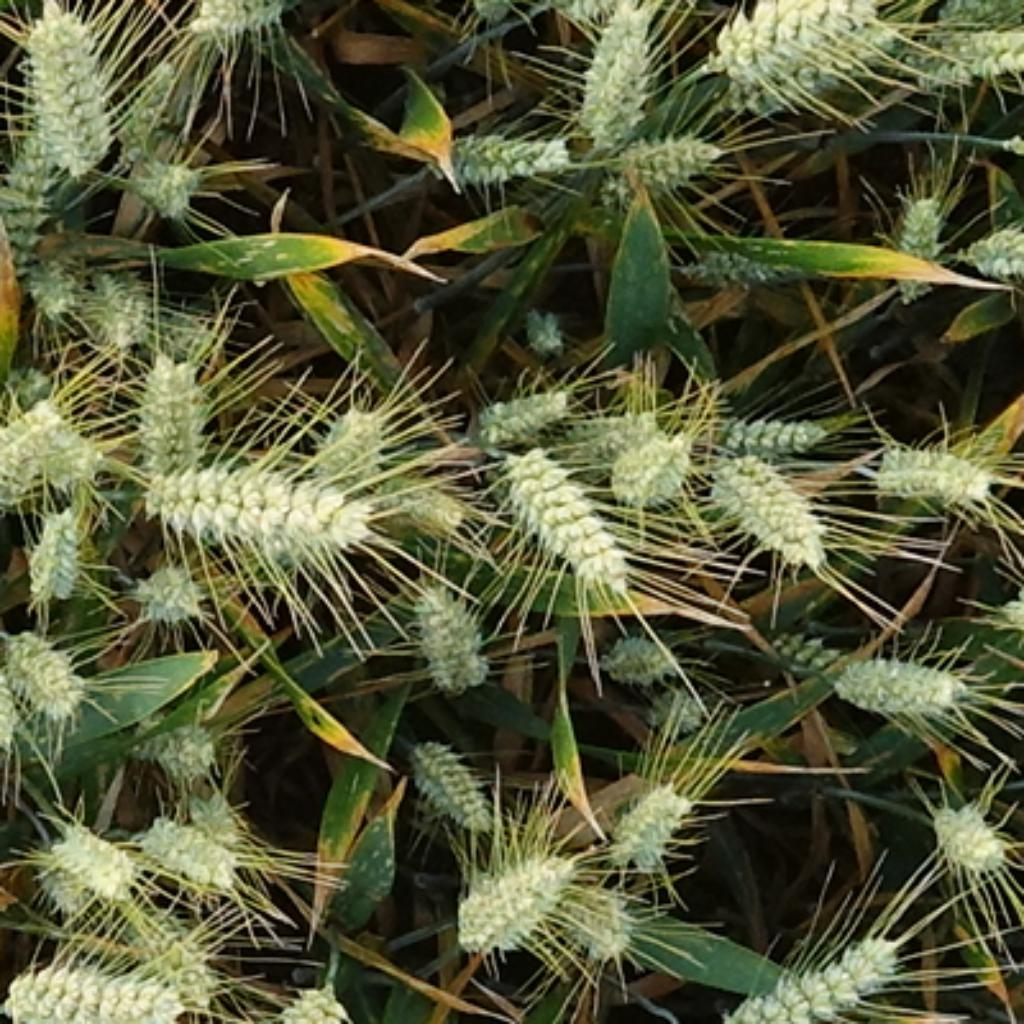0-0: (140, 458, 378, 558), (491, 437, 632, 586), (5, 2, 120, 179), (711, 929, 916, 1024), (709, 25, 903, 117), (450, 826, 578, 952), (706, 440, 832, 558), (711, 2, 901, 76), (0, 952, 192, 1024), (570, 2, 663, 135), (821, 634, 972, 714), (865, 419, 1003, 504), (399, 570, 494, 686), (432, 110, 576, 186), (30, 806, 143, 901), (125, 353, 212, 476), (0, 128, 62, 296), (396, 724, 494, 826), (107, 53, 184, 176), (555, 396, 670, 478), (0, 394, 74, 519), (601, 765, 696, 860), (130, 916, 230, 1006), (0, 616, 87, 714), (883, 179, 949, 307), (901, 28, 1024, 94), (552, 865, 640, 957), (606, 120, 719, 189), (125, 704, 225, 780), (683, 235, 806, 296), (614, 430, 711, 506), (304, 391, 391, 473), (23, 496, 94, 596), (924, 788, 1008, 870), (140, 143, 227, 222), (463, 373, 570, 437), (366, 460, 465, 529), (207, 980, 355, 1024), (711, 401, 832, 453), (79, 269, 153, 353), (38, 417, 112, 501), (642, 683, 721, 757), (143, 824, 238, 885), (757, 616, 847, 680), (128, 547, 207, 619), (21, 251, 90, 330), (593, 616, 680, 678), (179, 2, 296, 43), (959, 212, 1024, 279), (179, 788, 253, 842), (942, 0, 1024, 37), (517, 296, 568, 350), (0, 668, 23, 760), (463, 2, 519, 33), (81, 1021, 179, 1024)
